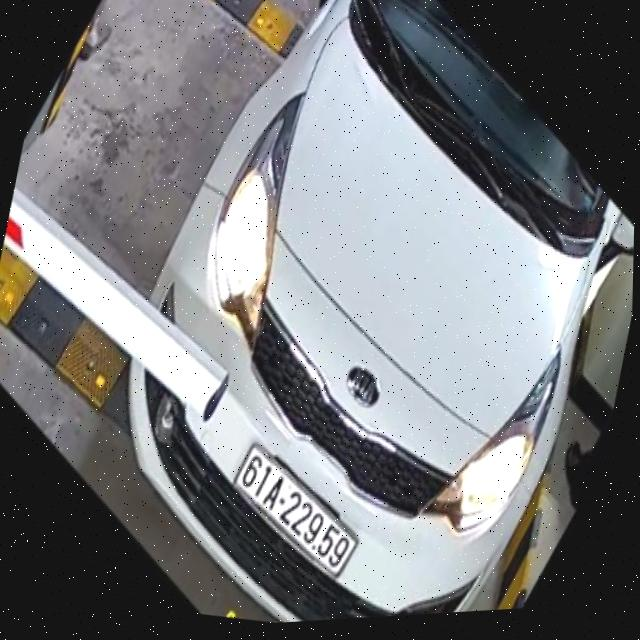car: (114, 0, 634, 622)
plate: (226, 435, 368, 588)
